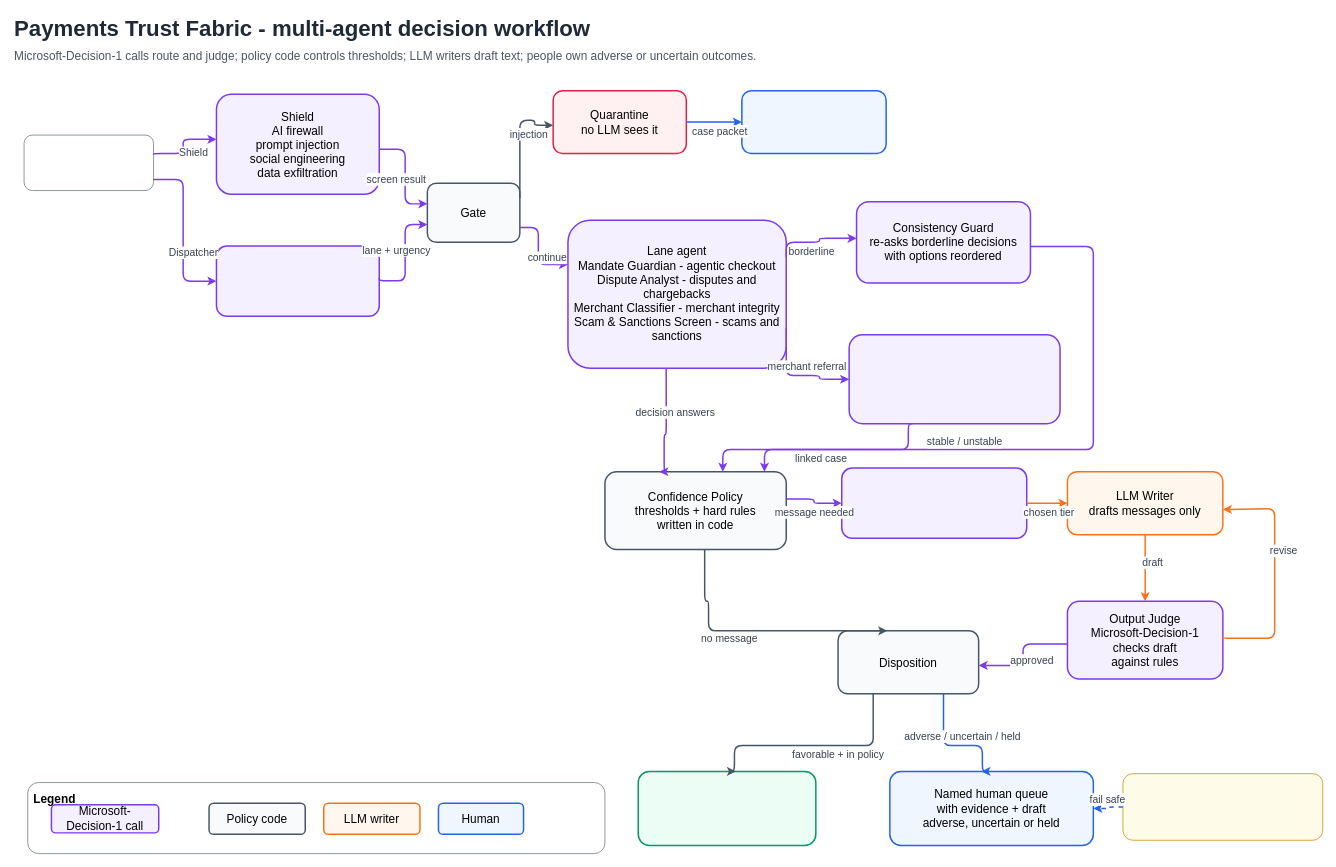
Image size: 1336x867. Some labels were removed from this diagram. The centre of each missing label's shape, as x and y in pixels:
"Automatic only customer-favorable outcomes, inside policy" goes at point 726,808.
"Dispatcher picks lane + urgency" goes at point 297,281.
"If Microsoft-Decision-1 fails, the case fails safe to a person." goes at point 1222,806.
"Inbound event" goes at point 88,162.
"Merchant Referral manipulated shopping agent opens merchant-integrity case" goes at point 954,379.
"Model Router Microsoft-Decision-1 picks LLM tier" goes at point 934,503.
"Security operations" goes at point 814,122.
